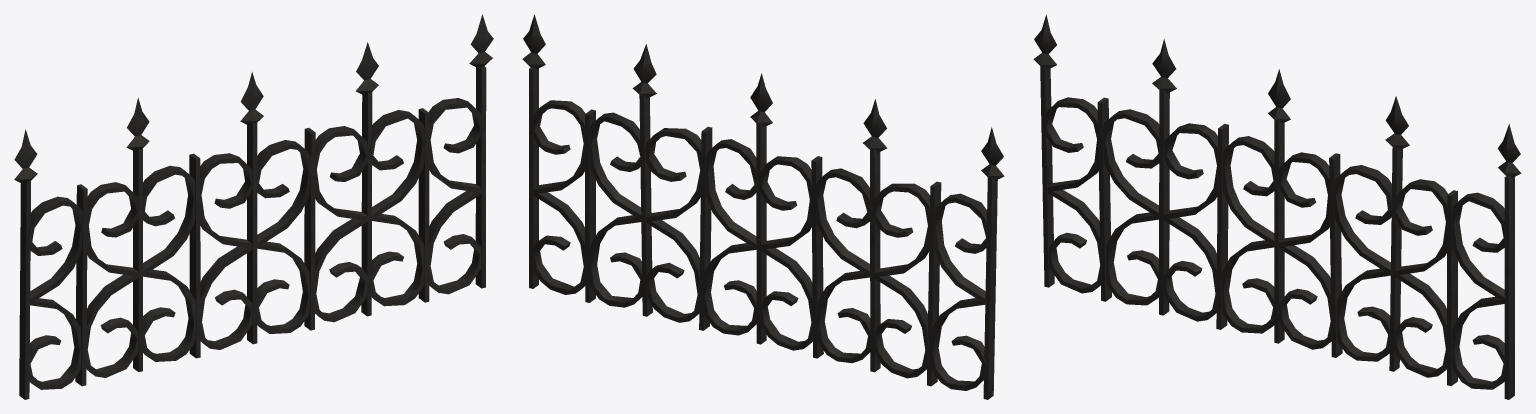
File: Chimney_Fence.fbx
3 views of the same model, side by side, from view 1: azimuth 30°, elevation 25°; view 2: azimuth 150°, elevation 25°; view 3: azimuth 330°, elevation 25° (orthographic).
Parts seen in each view (by area): view 1: Chimney_Fence; view 2: Chimney_Fence; view 3: Chimney_Fence.
Part boxes in pixels (left/top/right/bottom): Chimney_Fence: left=14, top=14, right=493, bottom=399; Chimney_Fence: left=522, top=14, right=1004, bottom=399; Chimney_Fence: left=1033, top=14, right=1521, bottom=399.
Size of what is drawn, in the model's own units: 88.41 by 47.81 by 4.32.
